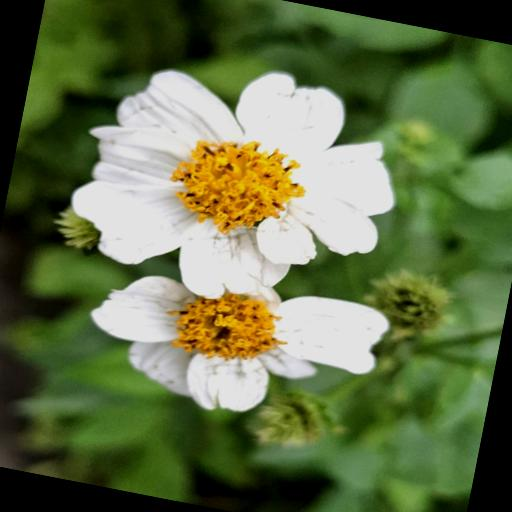Bidens: (53, 68, 396, 305), (77, 273, 406, 417)
